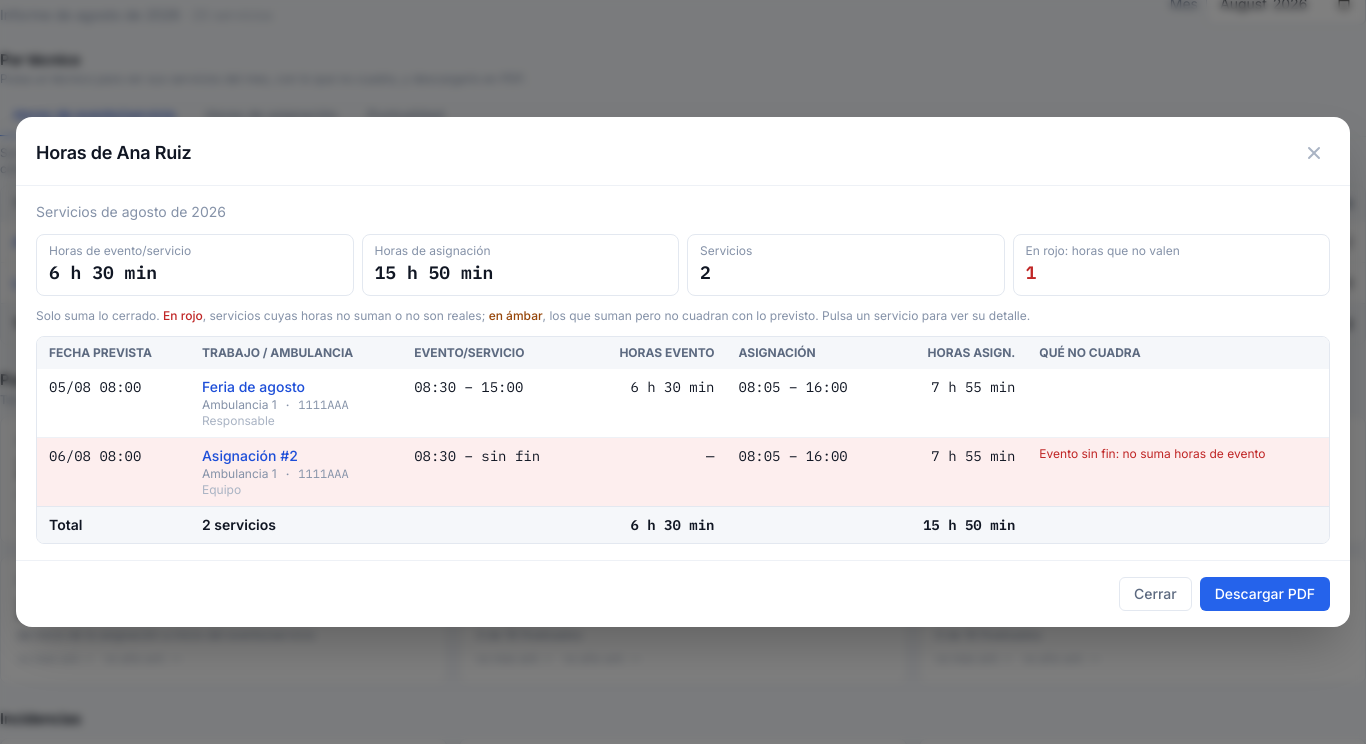
Informes · detalle de un técnico › cerrar quita el detalle de la URL
Expected: the button "Feria de agosto" is shown, [202,377,305,397]
Click the button "Cerrar": click(1155, 594) [1119,577,1192,611]
(page scrolled)
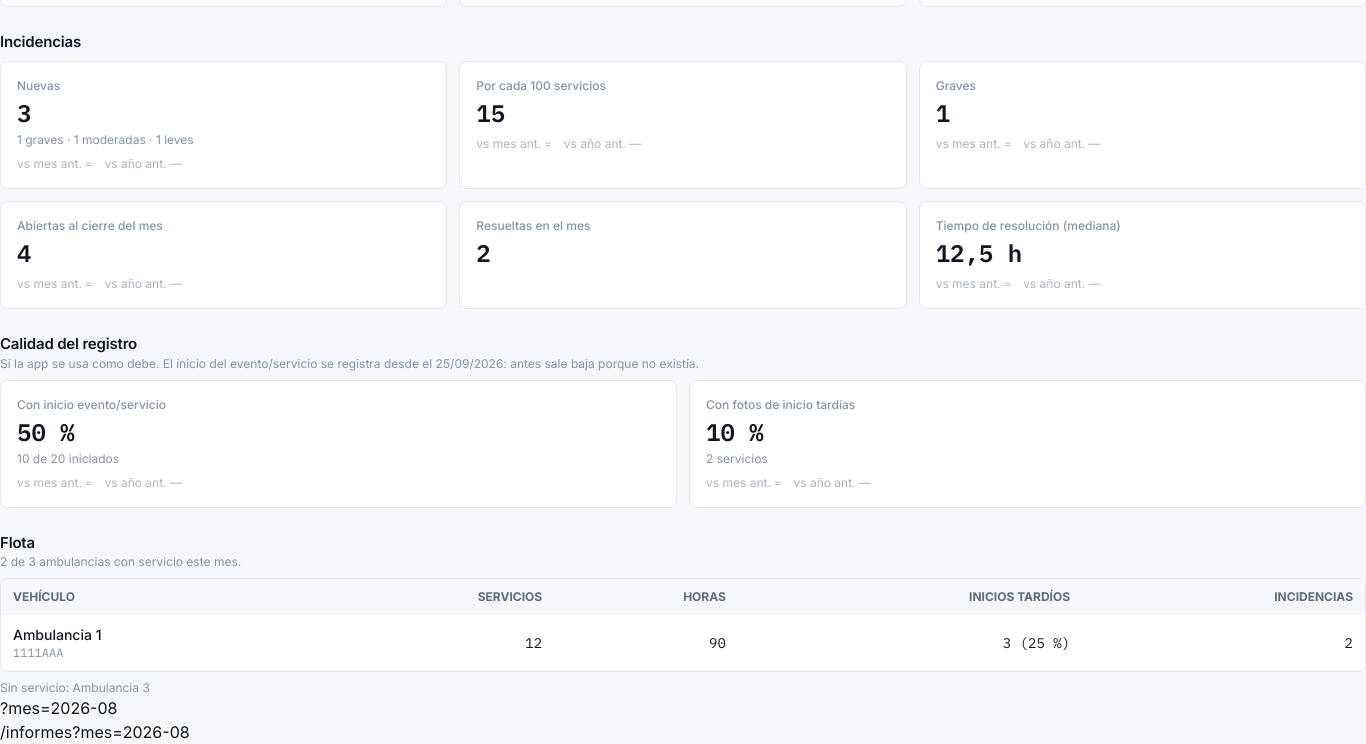
Now the button "Feria de agosto" is gone
Now the text with test id "donde" no longer shows "detalle", box [0,698,117,718]
